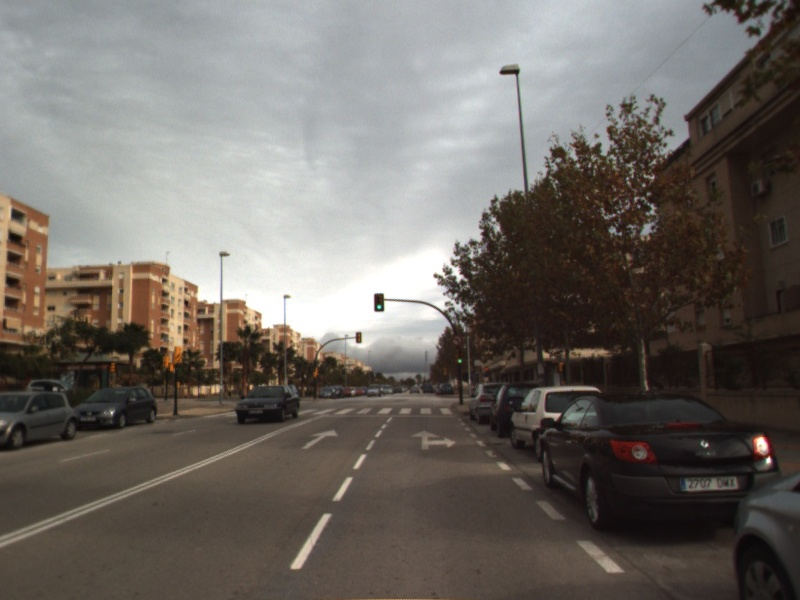STRAIGHT: (298, 427, 340, 451)
STRAIGHT_RIGHT: (409, 428, 458, 451)
